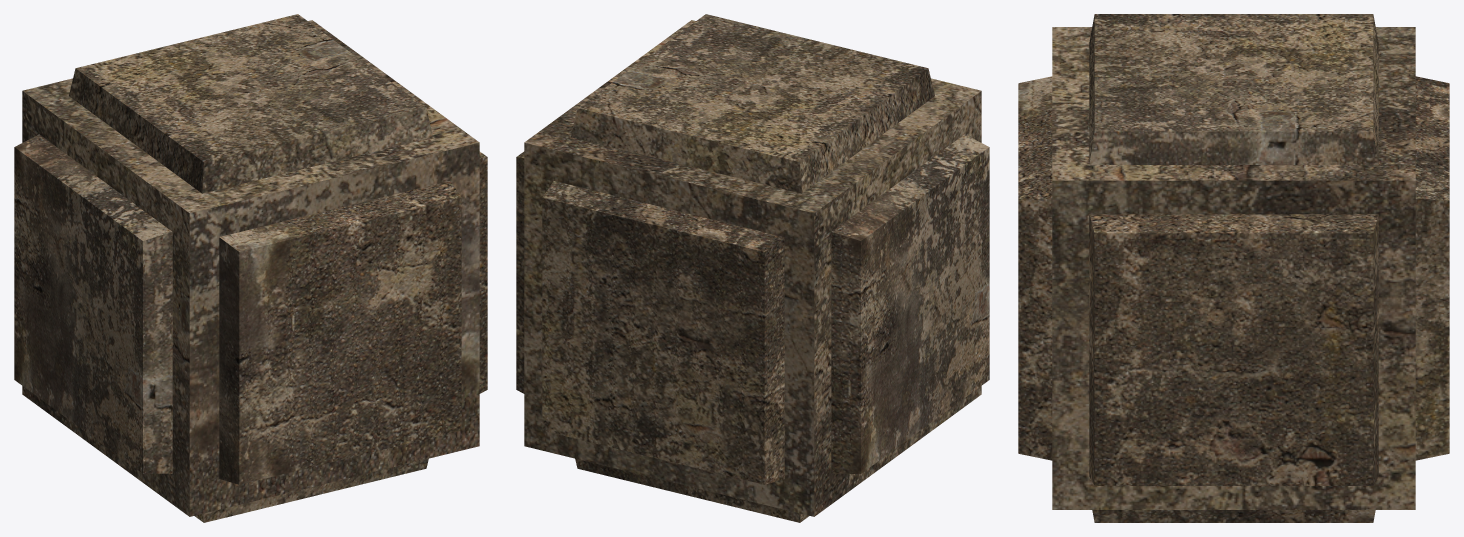
The model's file is materials_5_decoration_16.fbx.
3 renders of one model, left to right at view 1: azimuth 30°, elevation 25°; view 2: azimuth 150°, elevation 25°; view 3: azimuth 270°, elevation 25°, orthographic. The views are drawn at different scales.
Parts seen in each view (by area): view 1: materials_5_decoration_16; view 2: materials_5_decoration_16; view 3: materials_5_decoration_16.
Boxes of the visible parts, x1,y1,x2,y2 form: materials_5_decoration_16: (14,14,487,522); materials_5_decoration_16: (516,14,989,522); materials_5_decoration_16: (1018,14,1449,522).
Size of the model in its own units: 43.08 by 43.08 by 43.08.
